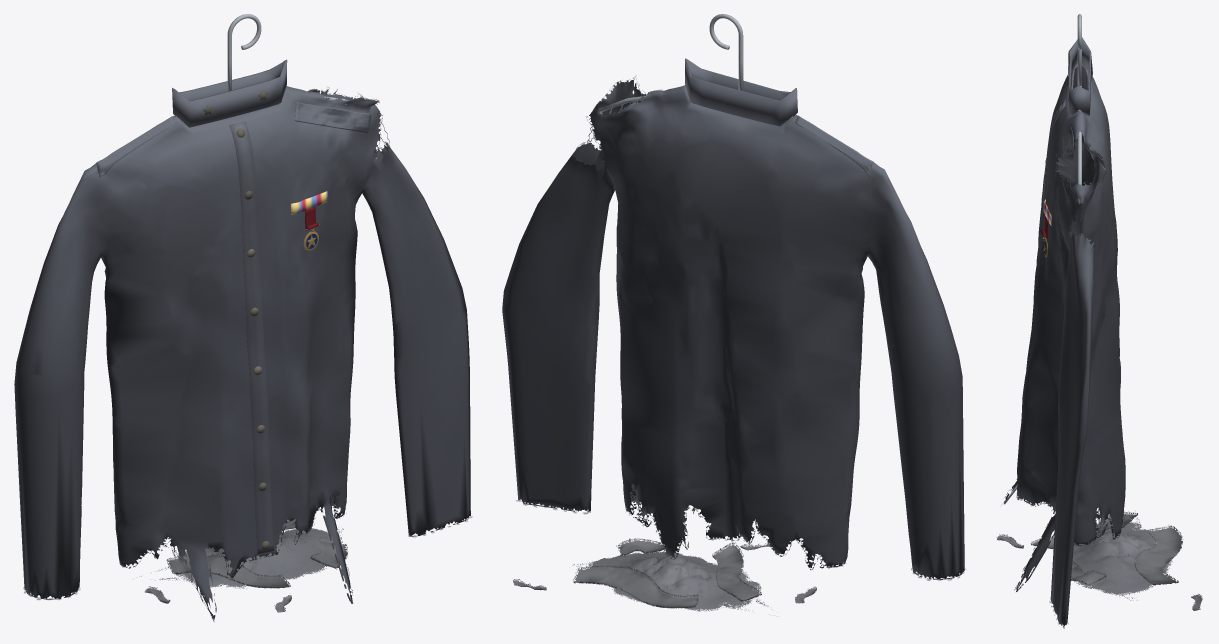
Rendered from dress_uniform_aged.glb.
3 renders of one model, left to right at view 1: azimuth 30°, elevation 25°; view 2: azimuth 150°, elevation 25°; view 3: azimuth 270°, elevation 25°, orthographic. The views are drawn at different scales.
Visible parts, largest first — view 1: TunicBody, Placket, Collar, FibreDust, FallenHem_1, ShoulderBoard_L, ShoulderBoard_R, Hanger; view 2: TunicBody, FibreDust, Collar, FallenHem_2, FallenHem_1, Hanger, ShoulderBoard_R; view 3: TunicBody, FibreDust, FallenHem_2, Collar, Hanger, FallenHem_3, FallenHem_1, ShoulderBoard_L.
Part boxes in pixels (box(x1,y1,x2,y2)): TunicBody: box(14, 86, 470, 619); Placket: box(229, 121, 274, 554); Collar: box(172, 59, 287, 127); FibreDust: box(141, 527, 343, 589); FallenHem_1: box(167, 555, 290, 588); ShoulderBoard_L: box(295, 102, 371, 133); ShoulderBoard_R: box(96, 116, 175, 176); Hanger: box(177, 14, 348, 119); TunicBody: box(502, 77, 964, 579); FibreDust: box(572, 551, 777, 612); Collar: box(685, 58, 797, 125); FallenHem_2: box(573, 565, 698, 608); FallenHem_1: box(712, 542, 761, 601); Hanger: box(598, 14, 792, 118); ShoulderBoard_R: box(795, 115, 873, 176); TunicBody: box(1004, 63, 1125, 626); FibreDust: box(1072, 517, 1172, 600); FallenHem_2: box(1134, 525, 1182, 585); Collar: box(1068, 37, 1092, 115); Hanger: box(1077, 14, 1081, 203); FallenHem_3: box(1071, 562, 1106, 585); FallenHem_1: box(1030, 512, 1137, 549); ShoulderBoard_L: box(1063, 127, 1073, 202).
Bounding box in the file's own units: 0.7985 × 0.9846 × 0.3414.
32 materials, 30 textured.
